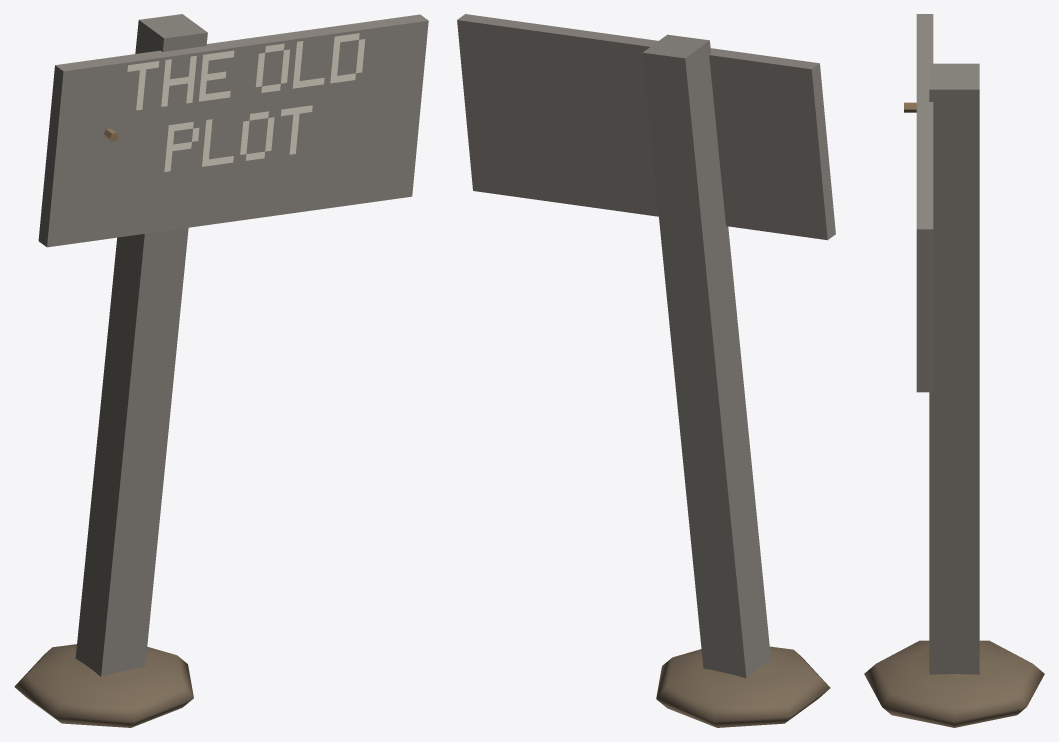
The model's file is cabin_old_sign_a.glb.
3 renders of one model, left to right at view 1: azimuth 30°, elevation 25°; view 2: azimuth 150°, elevation 25°; view 3: azimuth 270°, elevation 25°, orthographic. The views are drawn at different scales.
Parts seen in each view (by area): view 1: body; view 2: body; view 3: body.
Boxes of the visible parts, x1,y1,x2,y2 form: body: [14, 14, 428, 727]; body: [457, 14, 835, 727]; body: [864, 14, 1044, 727].
Bounding box in the file's own units: 1.04 × 1.74 × 0.429.
